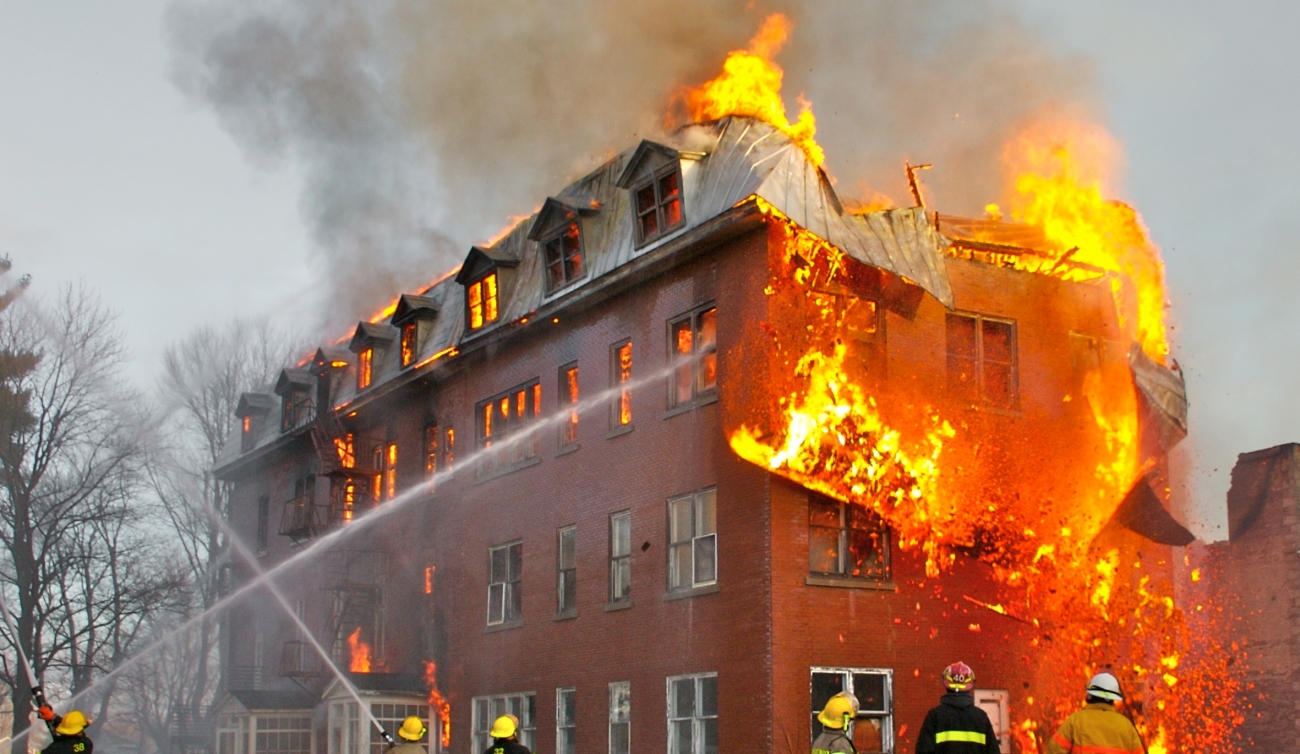fire: (751, 102, 1182, 649), (221, 15, 615, 222), (320, 226, 640, 345), (310, 334, 692, 426), (337, 574, 465, 736)
